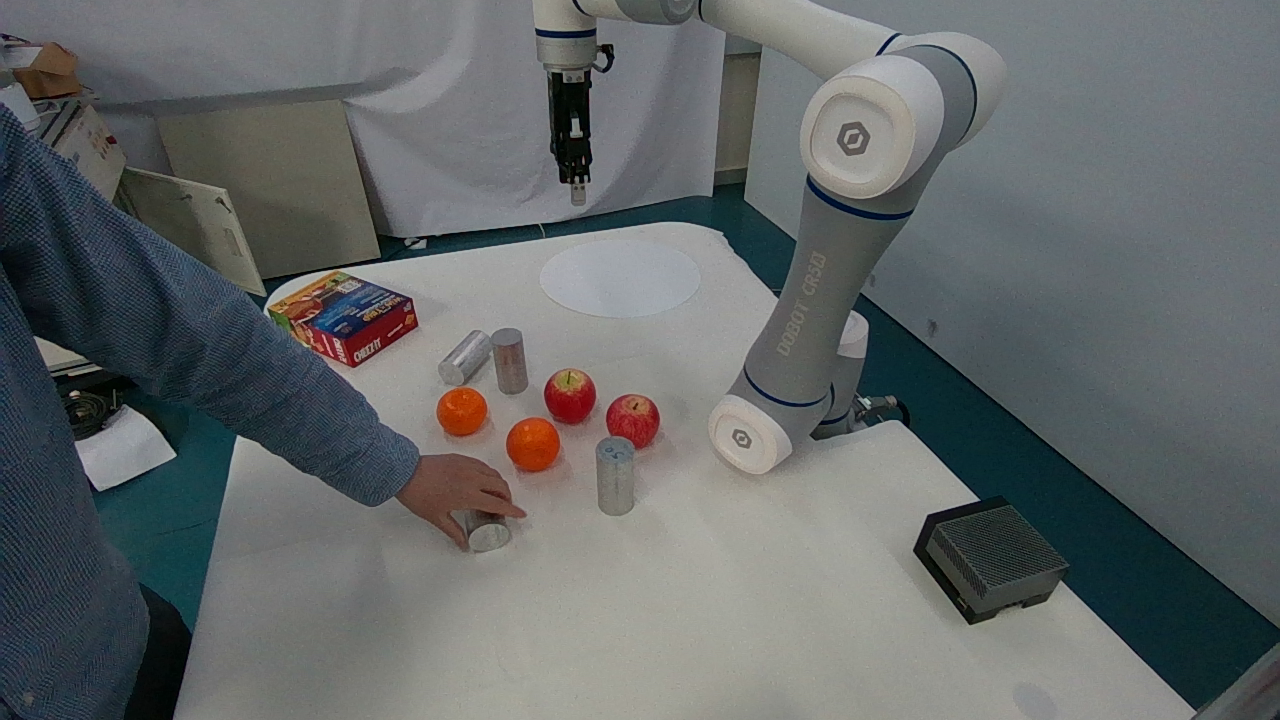apple: (492, 408, 568, 482), (432, 381, 490, 439)
metal rod: (533, 353, 602, 425), (592, 385, 663, 444)
orange: (587, 427, 644, 525), (434, 311, 492, 388), (486, 318, 533, 397)
